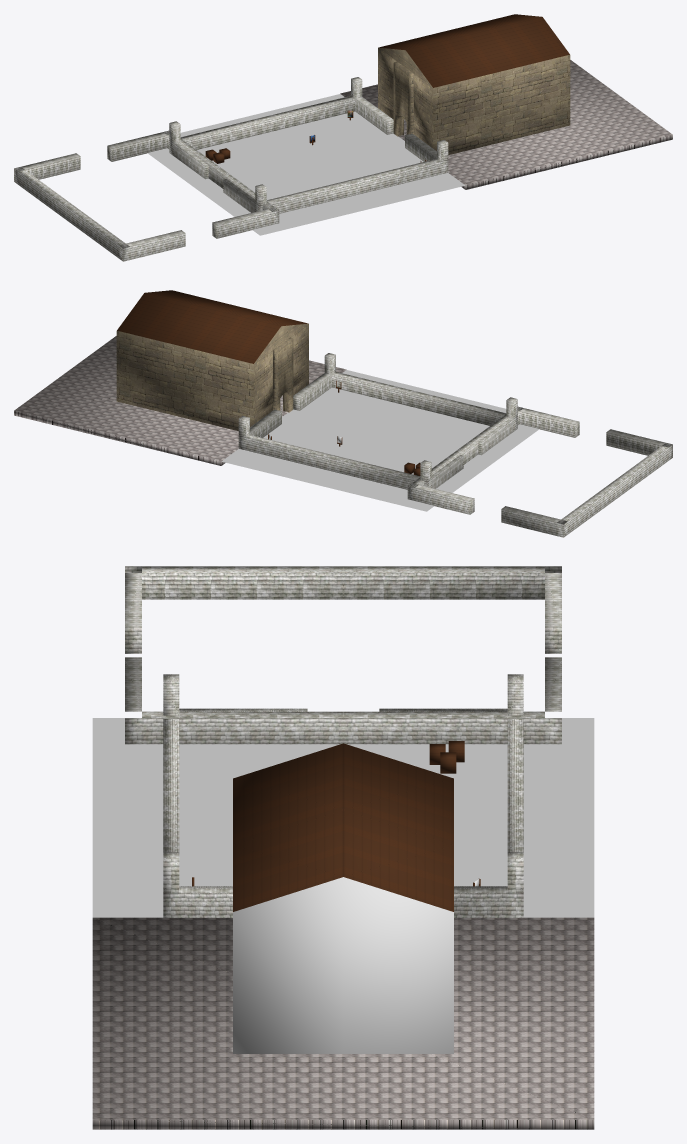
The model's file is soundDemoPlaza.fbx.
3 views of the same model, one above another, from view 1: azimuth 30°, elevation 25°; view 2: azimuth 150°, elevation 25°; view 3: azimuth 270°, elevation 25° (orthographic). The views are drawn at different scales.
Parts seen in each view (by area): view 1: Hall, CourtyardTiles, InteriorTiles, Fence, Fence2; view 2: Hall, CourtyardTiles, InteriorTiles, Fence, Fence2; view 3: InteriorTiles, Hall, CourtyardTiles, Fence2, Fence.
Part boxes in pixels (x1,y1,x2,y2): Hall: (378,14,570,154); CourtyardTiles: (147,94,464,235); InteriorTiles: (340,60,672,189); Fence: (169,77,448,213); Fence2: (14,130,279,261); Hall: (116,290,308,430); CourtyardTiles: (222,370,539,511); InteriorTiles: (14,336,346,465); Fence: (238,353,517,489); Fence2: (407,406,672,537); InteriorTiles: (92,917,594,1129); Hall: (233,743,453,1053); CourtyardTiles: (92,718,594,917); Fence2: (125,566,561,744); Fence: (163,674,523,917).
Bounding box in the file's own units: 157 × 25.82 × 62.85.
